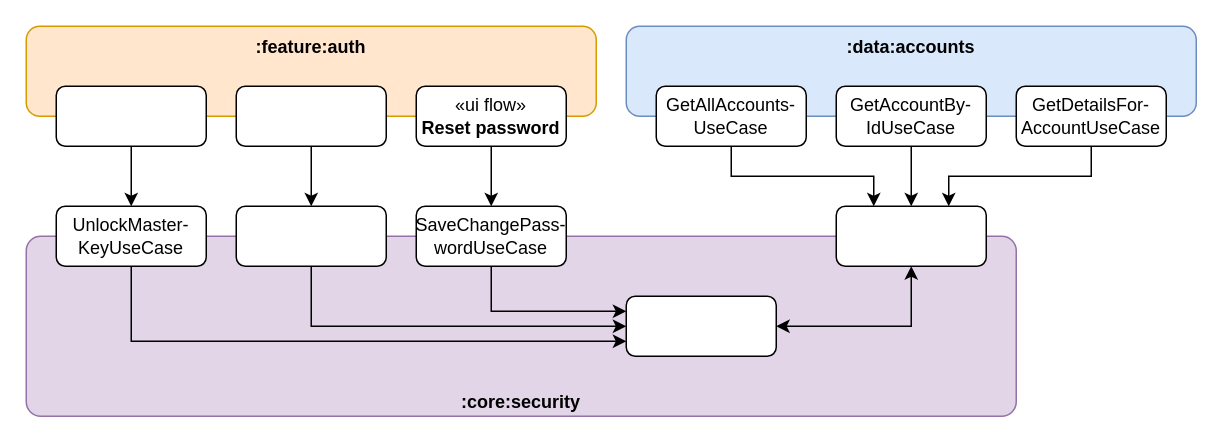
This 1223x443 diagram has some shape labels left out. Here are the shapes that lost their labels. From the top down, the centre of each, then its label:
At point 130,115: "«ui flow» Login".
At point 310,115: "«ui flow» Setup auth".
At point 310,235: "SaveFirstTime-SetupUseCase".
At point 910,235: "CipherService".
At point 700,325: "MasterKey-Repository".
